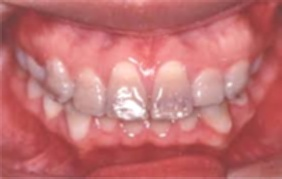Tooth Discoloration: (13, 50, 259, 120)
